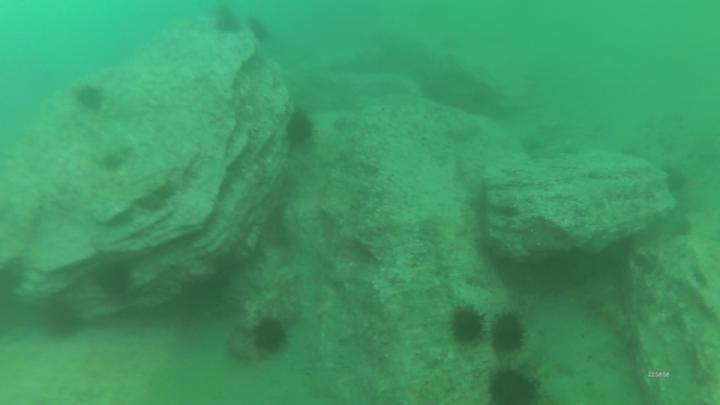echinus: (493, 373, 537, 405), (41, 304, 79, 337), (495, 317, 523, 356), (254, 323, 286, 354), (96, 264, 128, 293), (453, 310, 483, 340), (215, 6, 242, 33), (290, 112, 312, 144), (73, 84, 101, 108), (251, 23, 267, 41)
starfish: (581, 233, 608, 257), (443, 119, 469, 140), (529, 146, 567, 159)
